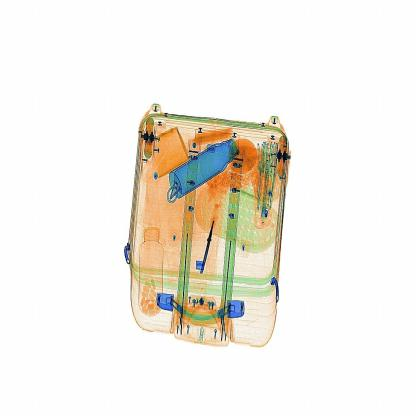gun: (197, 195, 230, 276)
